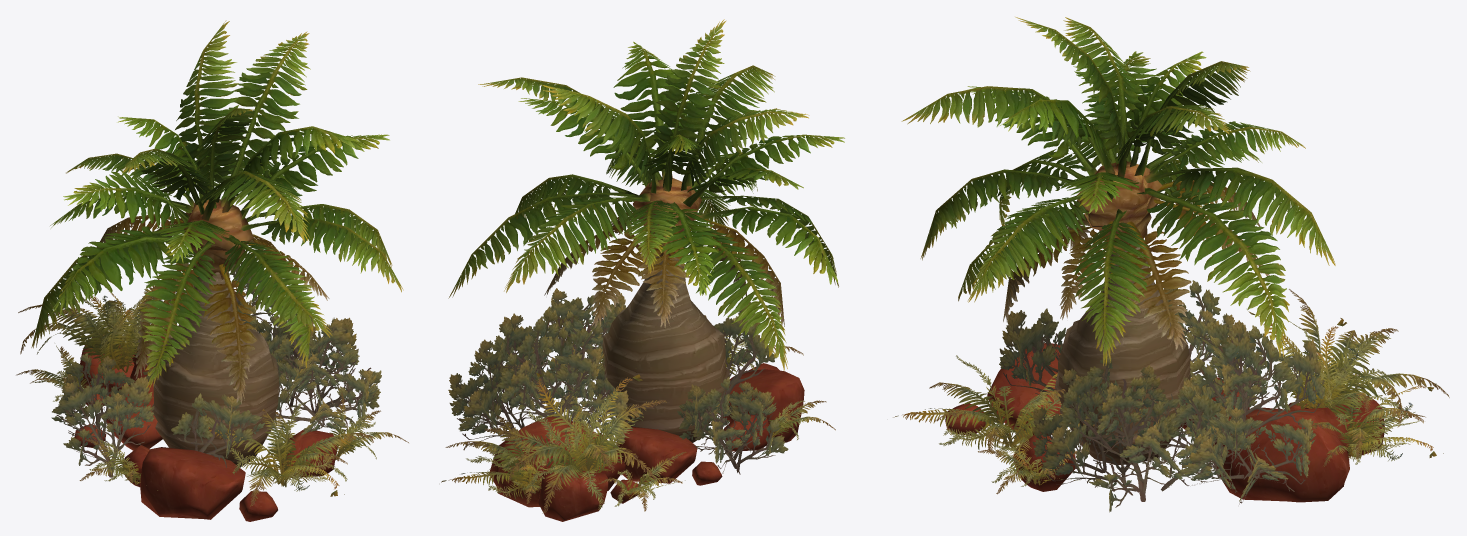
3 views of the same model, side by side, from view 1: azimuth 30°, elevation 25°; view 2: azimuth 150°, elevation 25°; view 3: azimuth 270°, elevation 25° (orthographic). The views are drawn at different scales.
Size of the model in its own units: 8.46 by 9.57 by 10.7.
5 materials, 5 textured.
